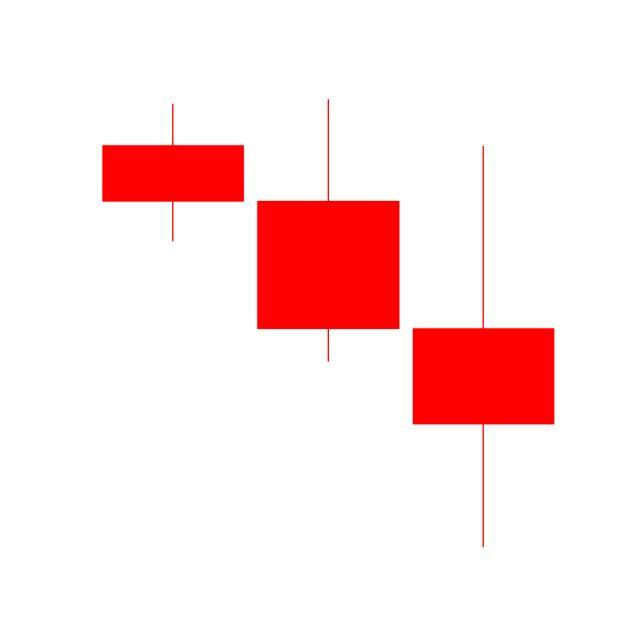Spinning Top: (406, 142, 562, 552)
